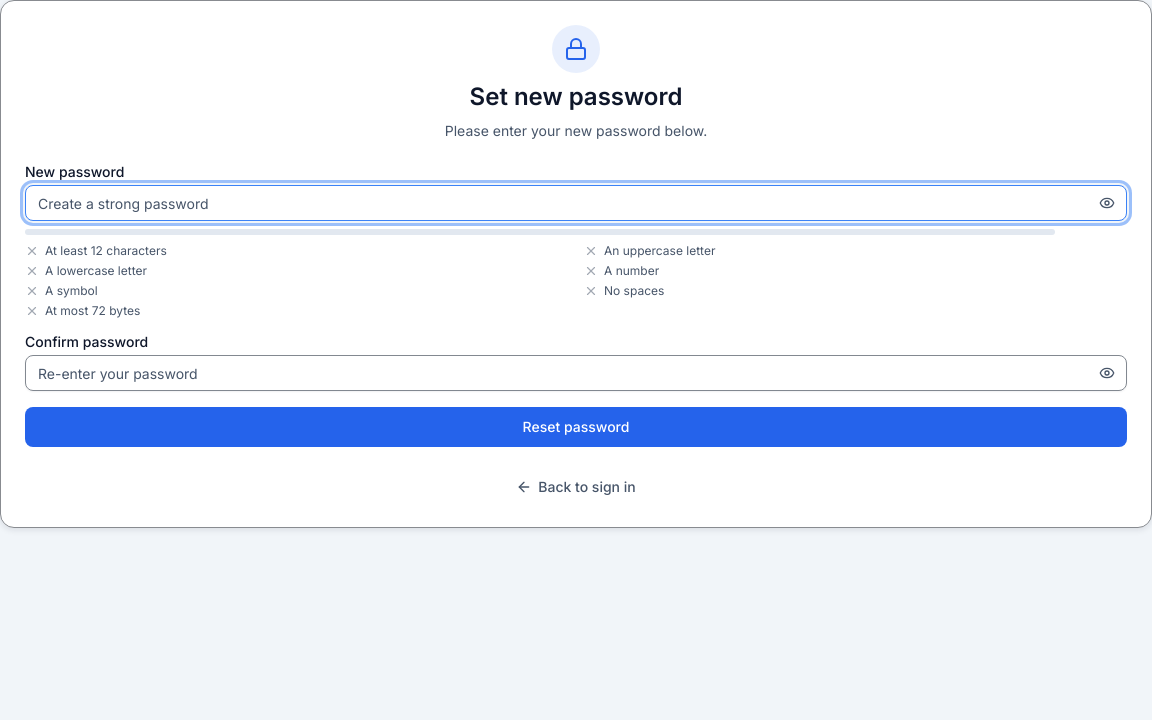
<ResetPassword> › shows the API's reason when the link is refused, not a generic retry
Type "Sup3r!Secret!Pass" into the password field labelled "New password" at [576, 203], box x1=25 y1=185 x2=1127 y2=221
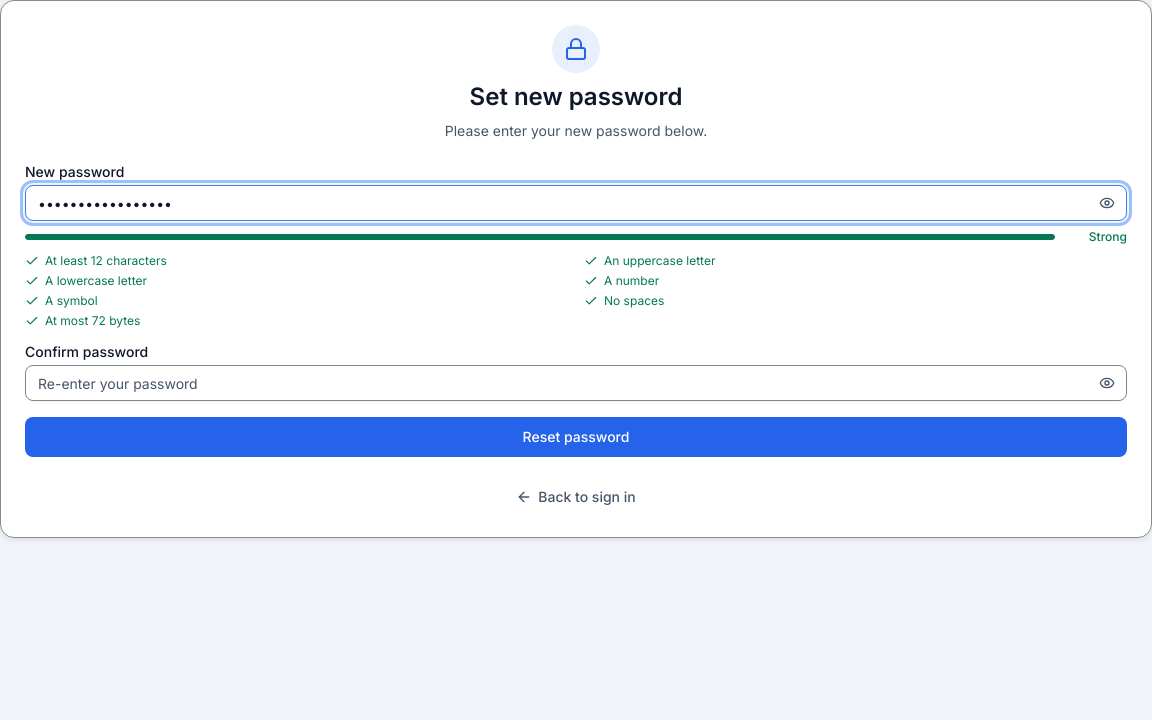
Type "Sup3r!Secret!Pass" into the password field labelled "Confirm password" at [576, 383], box x1=25 y1=365 x2=1127 y2=401
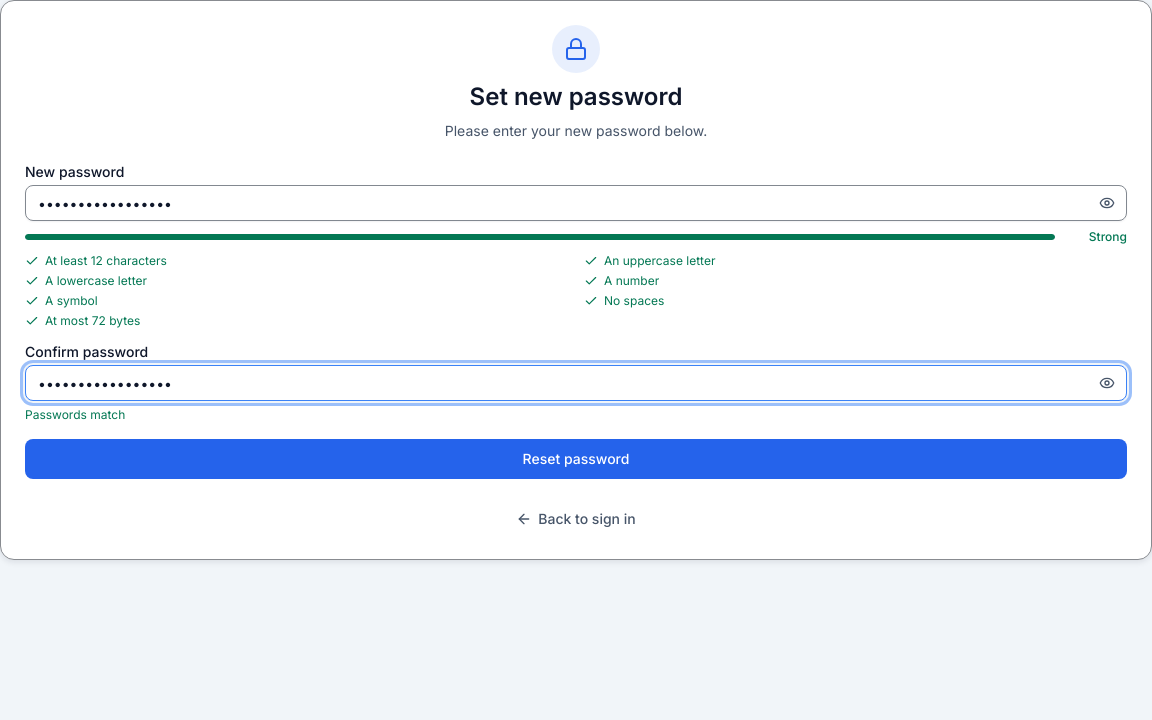
Click the button "Reset password" at [576, 459], box x1=25 y1=439 x2=1127 y2=479
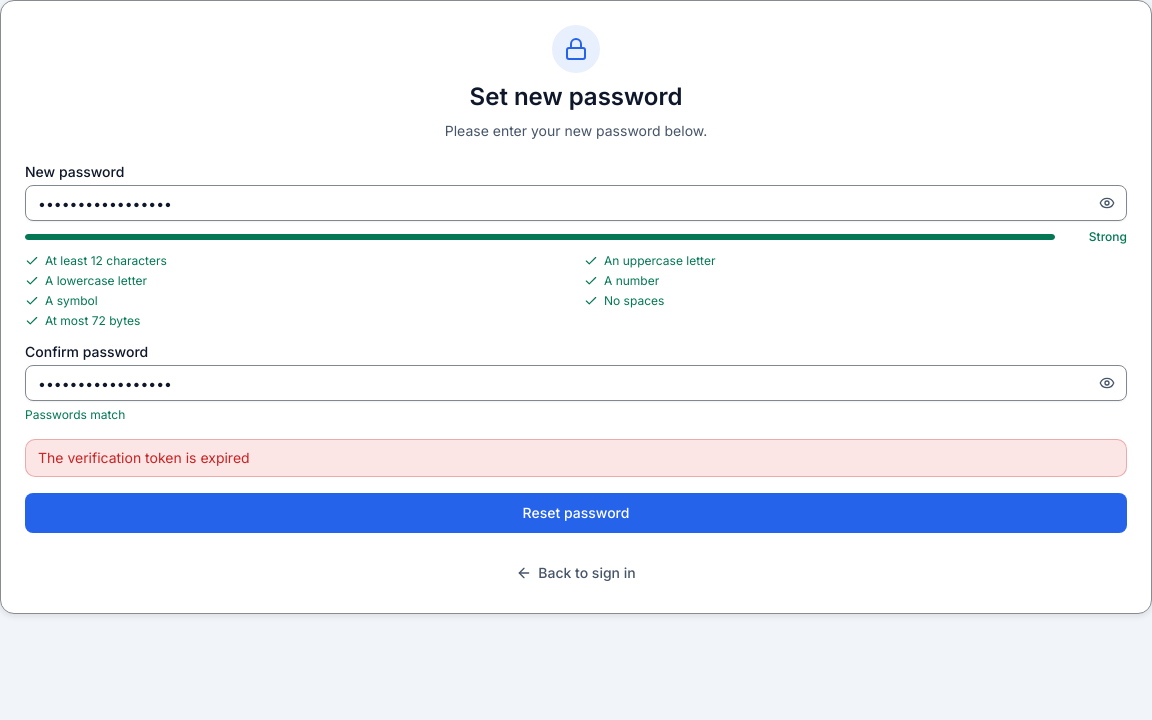
Now the message reads "The verification token is expired", box x1=38 y1=449 x2=250 y2=466
